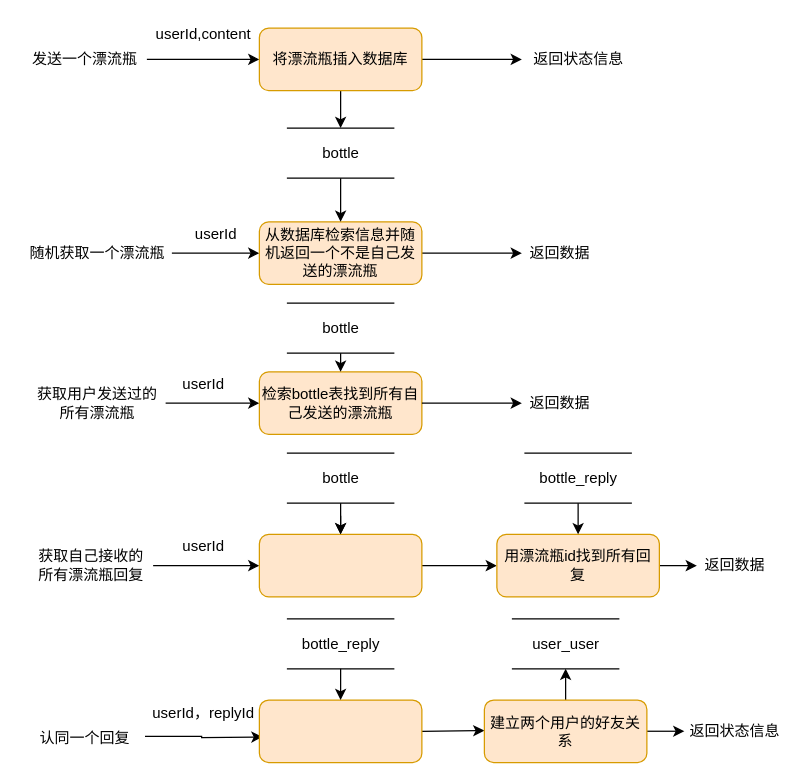
Some shapes in this 811 by 784 pixel diagram are drawn without their labels. Each missing label, with the box of its shape:
找到回复对应的用户id: (258, 699, 422, 762)
检索bottle表找到所有自己发送的漂流瓶id: (258, 533, 422, 597)
